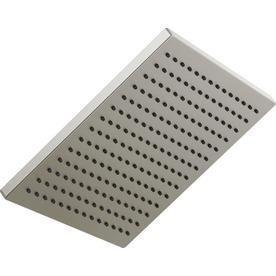Ducha: (0, 30, 275, 251)
